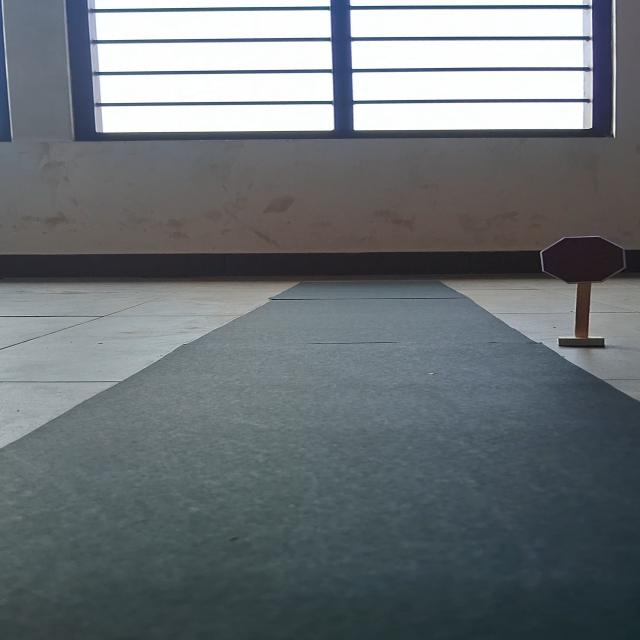Stop: (538, 236, 628, 285)
